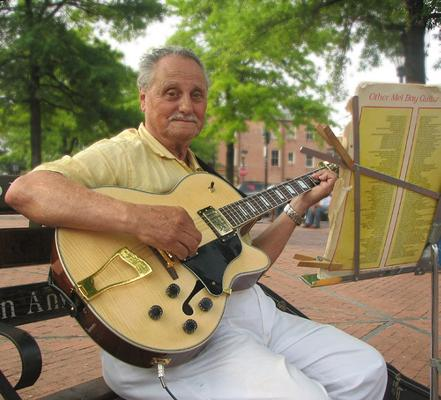person: (5, 48, 389, 400)
